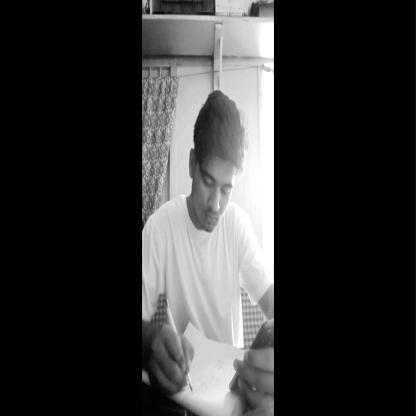Distracted: (190, 89, 249, 238)
